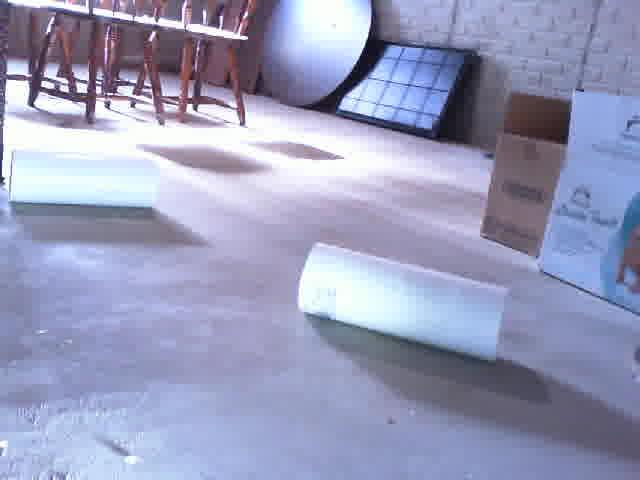coral: (299, 242, 509, 361), (10, 148, 158, 208)
